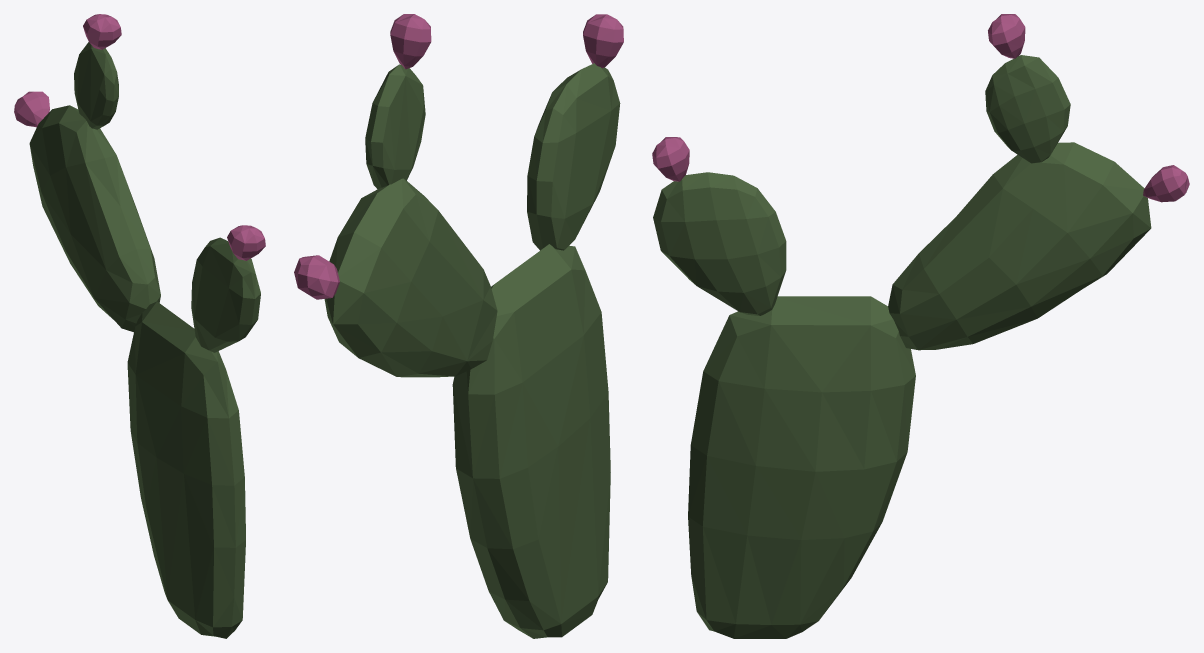
File: cactusFlowers.glb
The picture shows the model from 3 angles, left to right: view 1: azimuth 30°, elevation 25°; view 2: azimuth 150°, elevation 25°; view 3: azimuth 270°, elevation 25°; orthographic projection. The views are drawn at different scales.
Parts seen in each view (by area): view 1: CactusFlowers_5; view 2: CactusFlowers_5; view 3: CactusFlowers_5.
Part boxes in pixels (bbox=[...]): CactusFlowers_5: bbox=[14, 14, 265, 638]; CactusFlowers_5: bbox=[294, 14, 623, 638]; CactusFlowers_5: bbox=[652, 14, 1189, 638].
Bounding box in the file's own units: 0.1117 × 0.9382 × 0.734.
